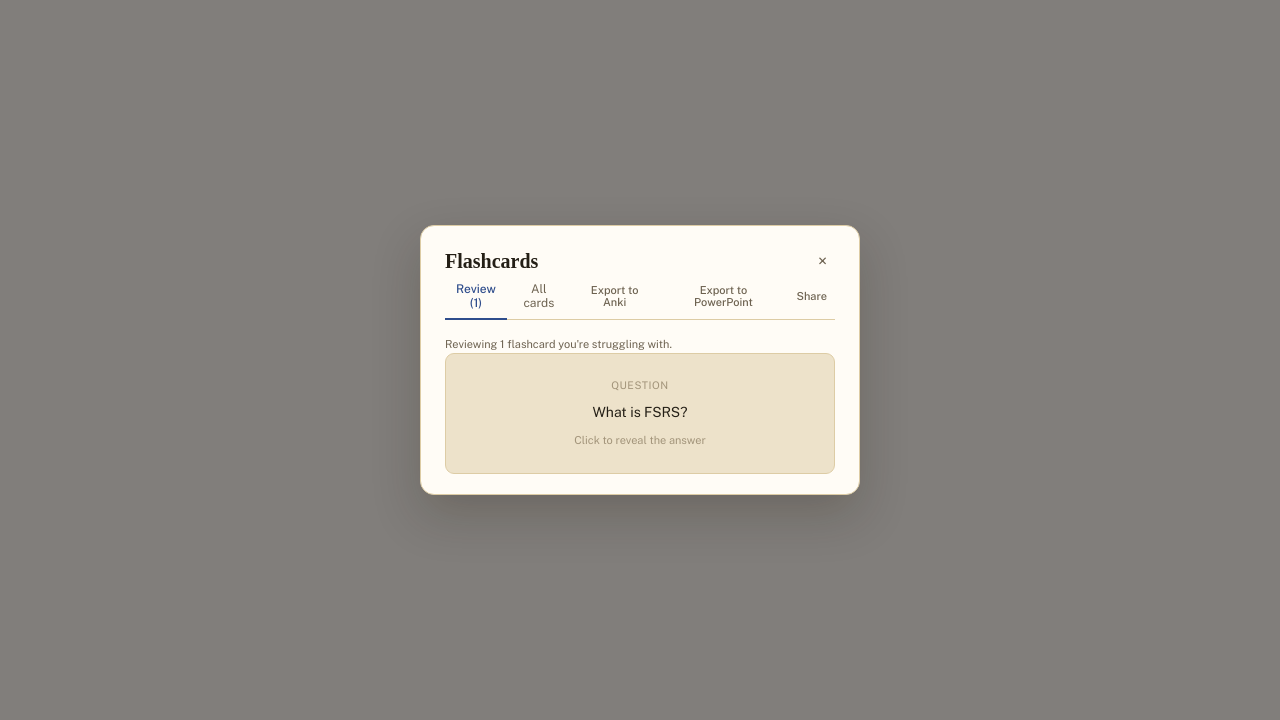
Scenario: FlashcardsPanel › initialCardIds (scoped review queue) › reviewing a scoped card still goes through the same real FSRS review endpoint, no separate code path
Click the text "What is FSRS?" at [640, 413], box [592,401,688,424]
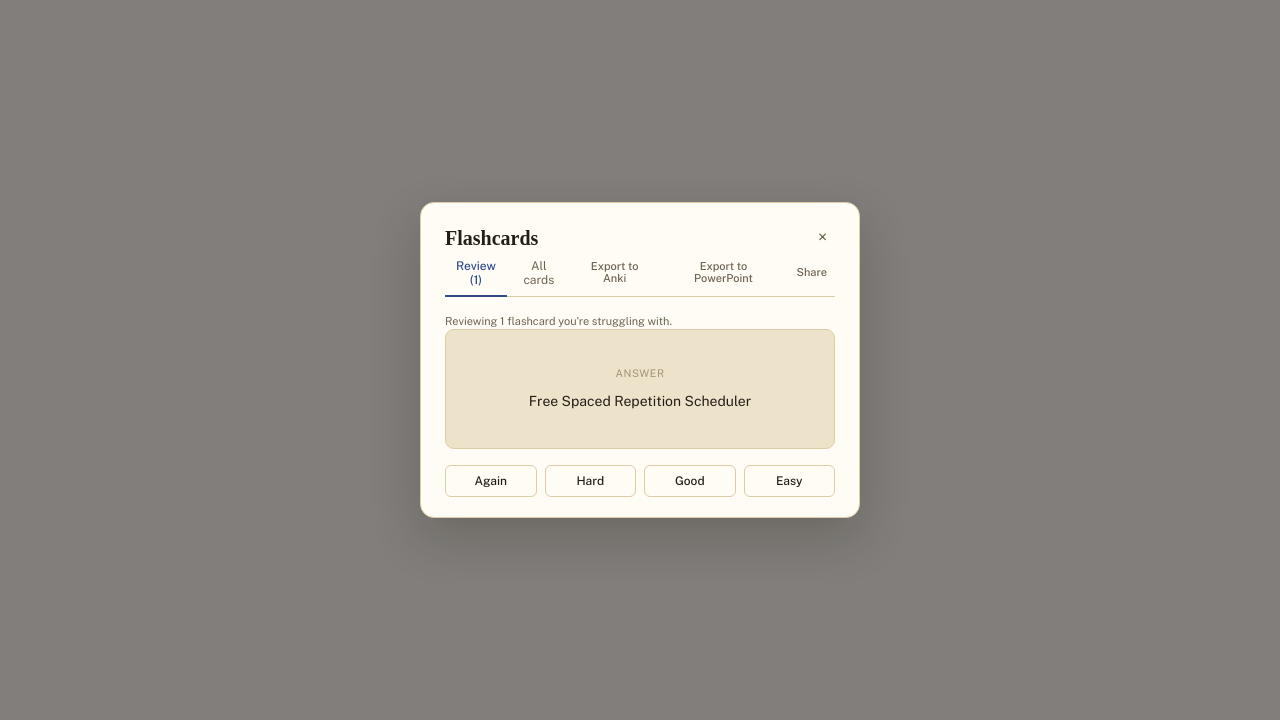
Click the button "Good" at [690, 481], box [644,465,736,497]
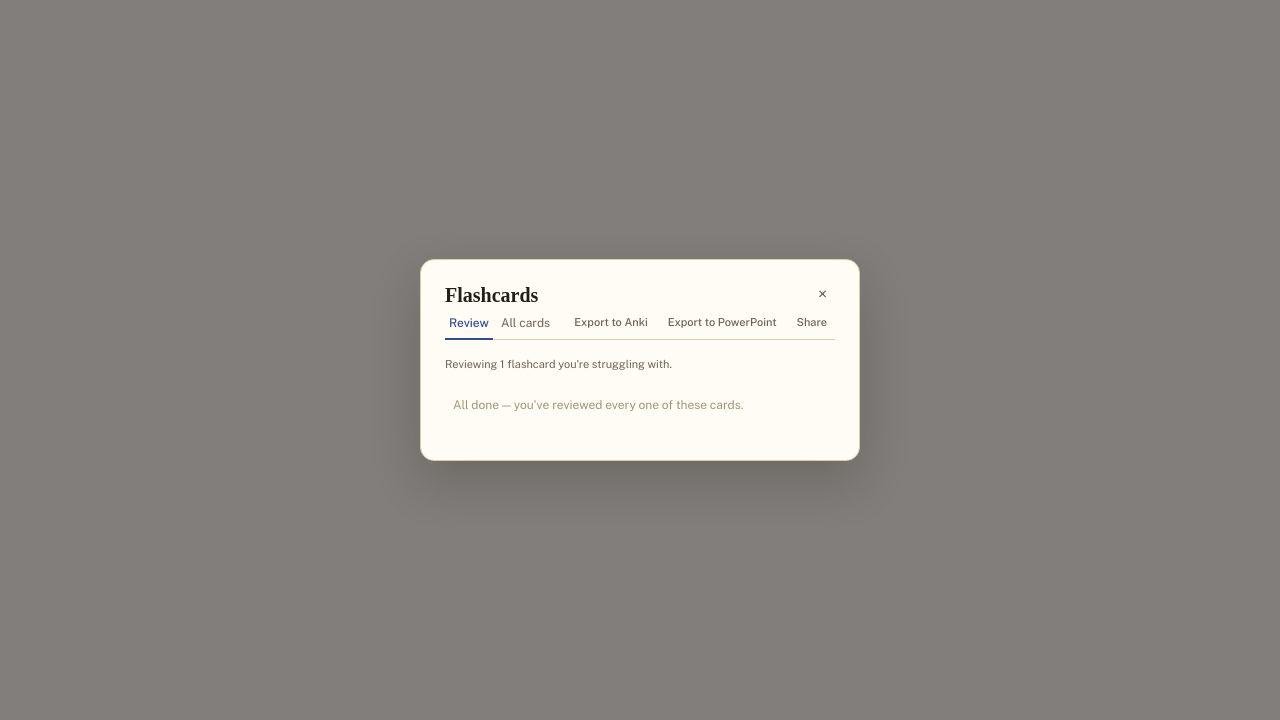
Result: the text "All done — you've reviewed every one of these cards." is shown at [453,398,744,412]
